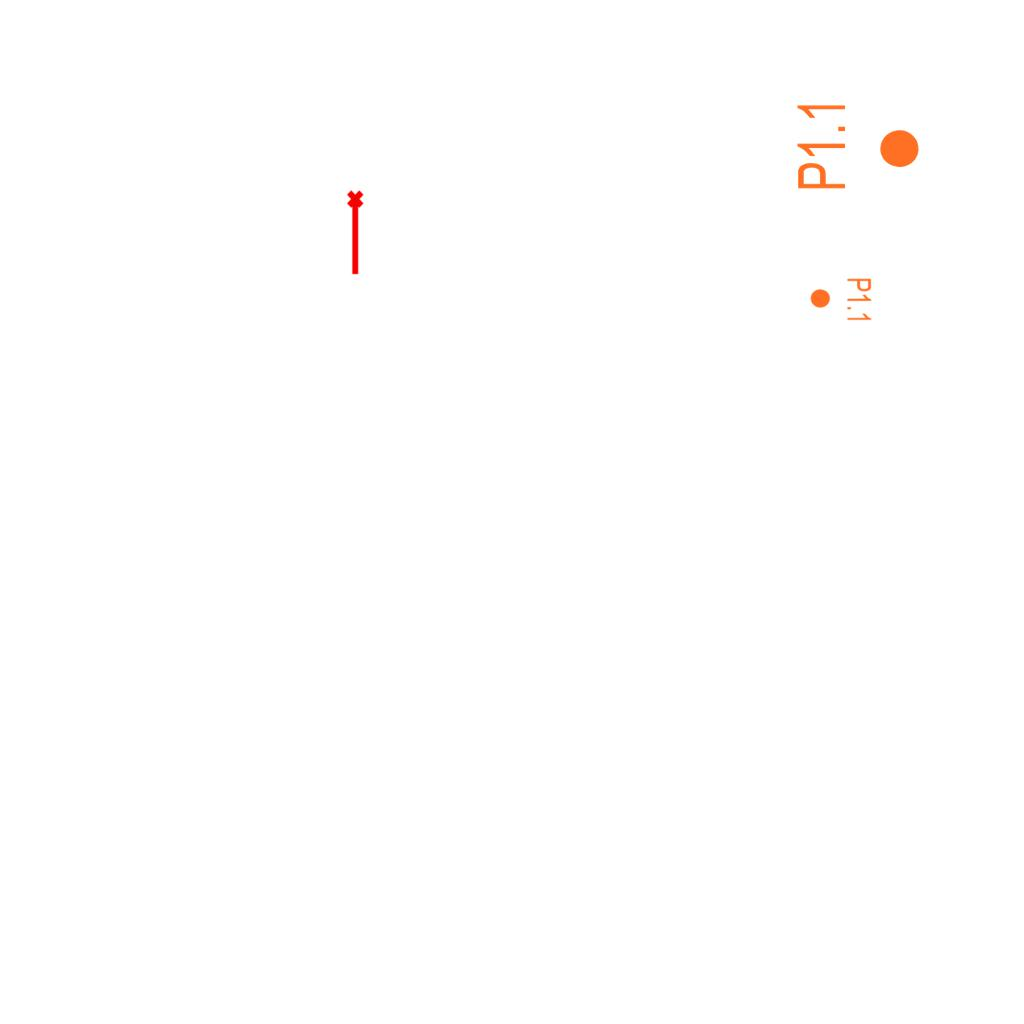ASR_Ansaugoeffnung: (345, 189, 368, 277)
Downlight_LED_Einbauleuchten_Flur: (794, 99, 922, 192), (809, 277, 873, 323)
